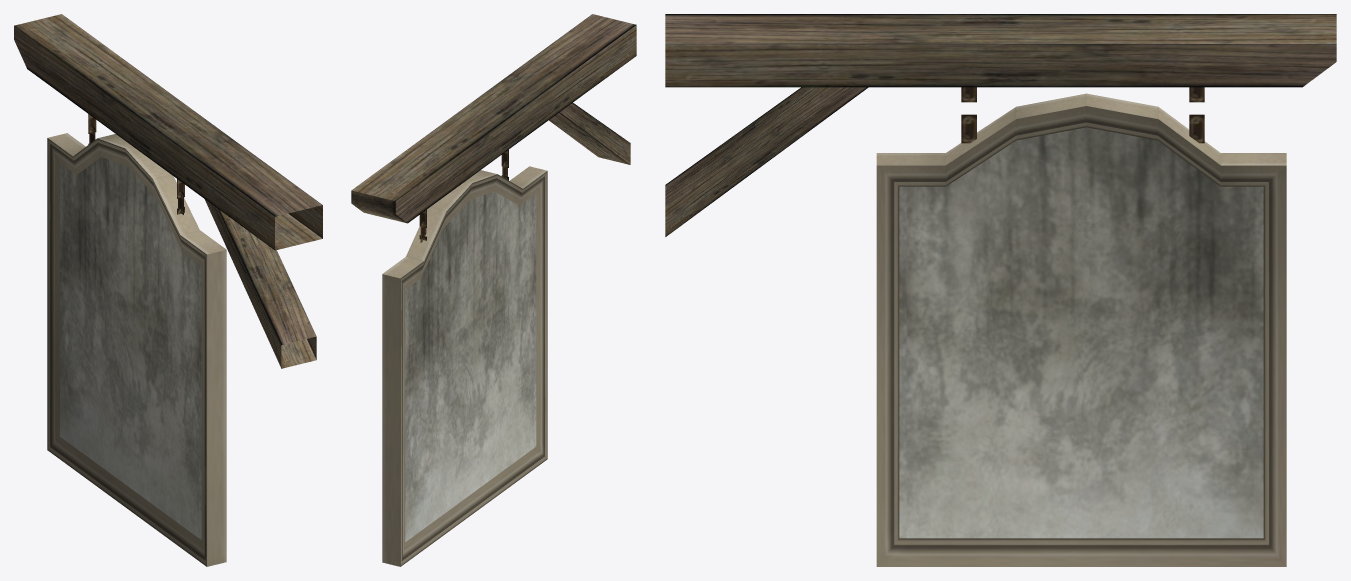
The model's file is sign1_eng_b_frame.fbx.
The picture shows the model from 3 angles, left to right: view 1: azimuth 30°, elevation 25°; view 2: azimuth 150°, elevation 25°; view 3: azimuth 270°, elevation 25°; orthographic projection. The views are drawn at different scales.
Parts seen in each view (by area): view 1: sign, support_horizontal, support_diagonal; view 2: sign, support_horizontal, support_diagonal; view 3: sign, support_horizontal, support_diagonal.
Boxes of the visible parts, x1=… form: sign: x1=47, y1=133, x2=226, y2=566; support_horizontal: x1=14, y1=14, x2=322, y2=250; support_diagonal: x1=204, y1=199, x2=316, y2=368; sign: x1=382, y1=166, x2=547, y2=566; support_horizontal: x1=351, y1=14, x2=636, y2=223; support_diagonal: x1=549, y1=103, x2=630, y2=164; sign: x1=876, y1=93, x2=1286, y2=566; support_horizontal: x1=665, y1=14, x2=1336, y2=87; support_diagonal: x1=665, y1=87, x2=868, y2=236.
Size of the model in its own units: 64.52 by 533 by 610.
2 materials, 2 textured.
